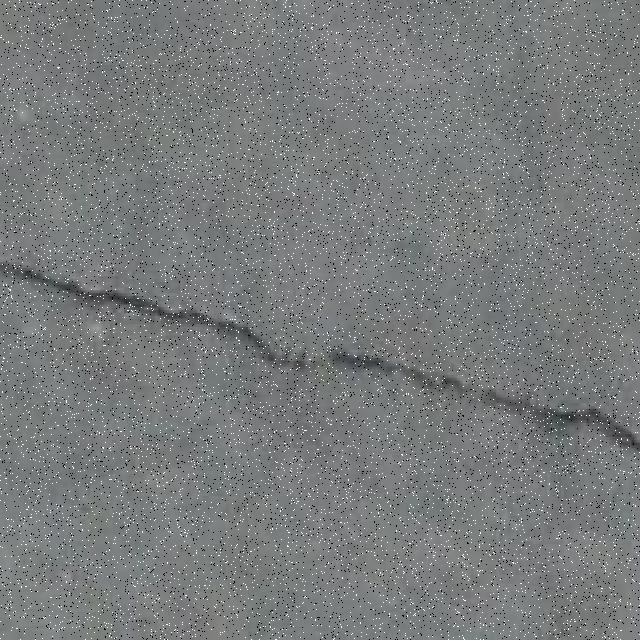minor crack: (7, 254, 637, 466), (5, 445, 636, 640)
